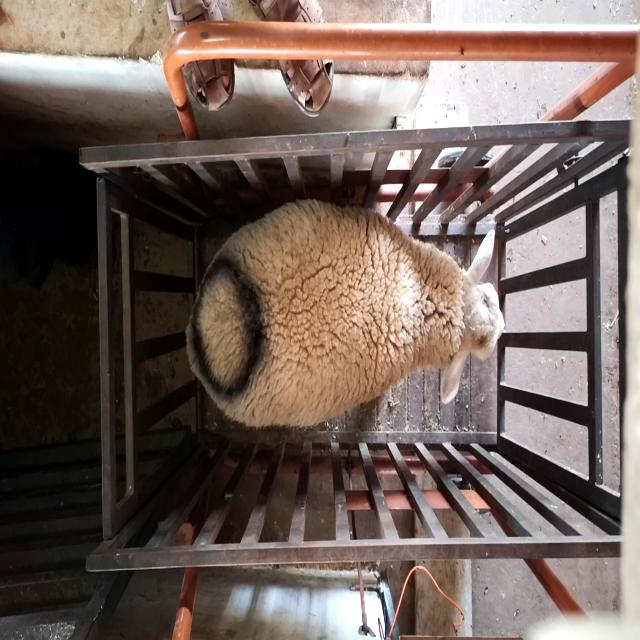sheep: (184, 198, 505, 428)
